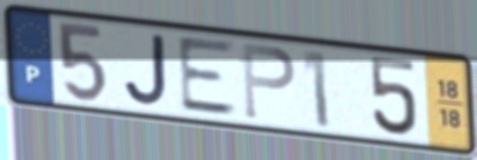1: (300, 48, 332, 131)
5: (55, 20, 112, 104), (366, 55, 420, 139)
E: (175, 35, 241, 119)
J: (122, 33, 171, 108)
P: (239, 40, 299, 123)
